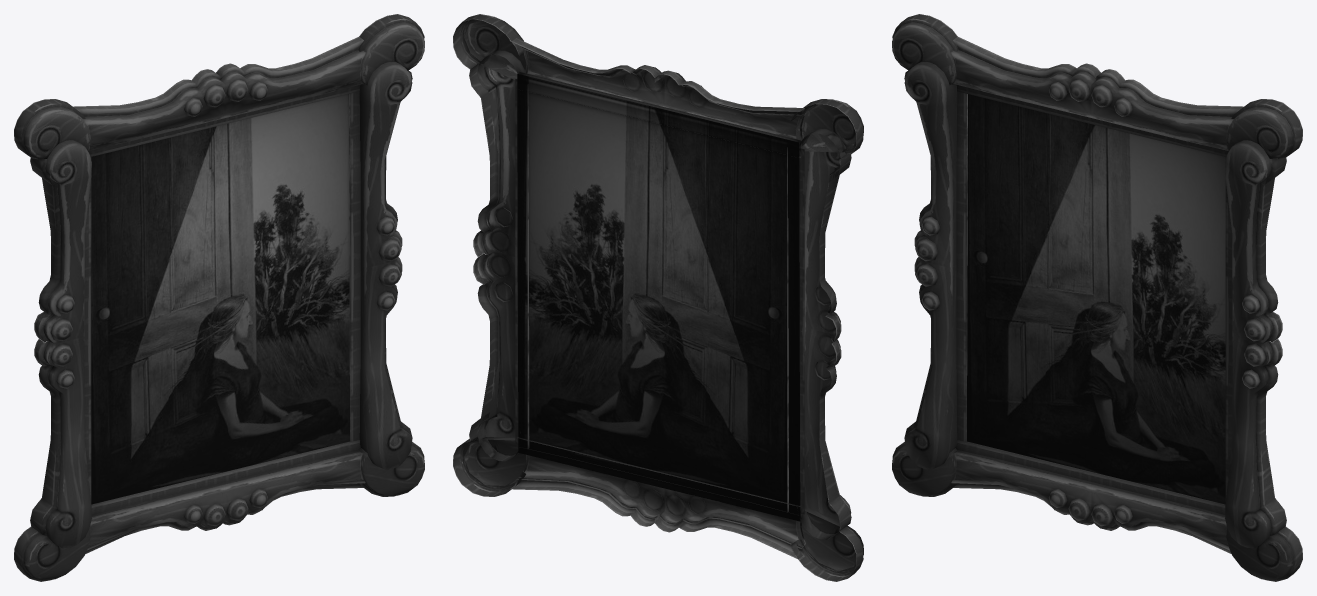
File: painting-b.glb
3 views of the same model, side by side, from view 1: azimuth 30°, elevation 25°; view 2: azimuth 150°, elevation 25°; view 3: azimuth 330°, elevation 25° (orthographic).
Visible parts, largest first — view 1: defaultMaterial.068, defaultMaterial.036, defaultMaterial.067, defaultMaterial.069, defaultMaterial.040, defaultMaterial.060, defaultMaterial.035, defaultMaterial.065, defaultMaterial.048, defaultMaterial.038, defaultMaterial.066, defaultMaterial.061 (+5 smaller); view 2: defaultMaterial.068, defaultMaterial.036, defaultMaterial.067, defaultMaterial.040, defaultMaterial.041, defaultMaterial.069, defaultMaterial.060, defaultMaterial.047, defaultMaterial.061, defaultMaterial.037, defaultMaterial.039, defaultMaterial.065 (+4 smaller); view 3: defaultMaterial.068, defaultMaterial.067, defaultMaterial.036, defaultMaterial.069, defaultMaterial.040, defaultMaterial.041, defaultMaterial.061, defaultMaterial.065, defaultMaterial.048, defaultMaterial.066, defaultMaterial.038, defaultMaterial.035 (+5 smaller).
Boxes of the visible parts, <box> form: defaultMaterial.068: <box>91,94,349,504</box>; defaultMaterial.036: <box>359,61,412,469</box>; defaultMaterial.067: <box>43,140,91,548</box>; defaultMaterial.069: <box>83,50,365,150</box>; defaultMaterial.040: <box>87,450,365,550</box>; defaultMaterial.060: <box>14,99,85,581</box>; defaultMaterial.035: <box>349,91,360,441</box>; defaultMaterial.065: <box>73,37,363,116</box>; defaultMaterial.048: <box>91,440,360,514</box>; defaultMaterial.038: <box>361,22,424,85</box>; defaultMaterial.066: <box>23,107,90,158</box>; defaultMaterial.061: <box>84,157,91,500</box>; defaultMaterial.068: <box>517,74,800,521</box>; defaultMaterial.036: <box>477,50,524,461</box>; defaultMaterial.067: <box>797,128,851,539</box>; defaultMaterial.040: <box>516,447,805,548</box>; defaultMaterial.041: <box>453,14,525,496</box>; defaultMaterial.069: <box>522,48,805,140</box>; defaultMaterial.060: <box>790,99,863,581</box>; defaultMaterial.047: <box>510,478,804,559</box>; defaultMaterial.061: <box>787,147,804,514</box>; defaultMaterial.037: <box>461,437,528,489</box>; defaultMaterial.039: <box>795,507,863,574</box>; defaultMaterial.065: <box>509,38,804,115</box>; defaultMaterial.068: <box>967,94,1225,504</box>; defaultMaterial.067: <box>904,61,957,469</box>; defaultMaterial.036: <box>1225,140,1273,548</box>; defaultMaterial.069: <box>951,50,1233,150</box>; defaultMaterial.040: <box>951,450,1229,550</box>; defaultMaterial.041: <box>1231,99,1302,581</box>; defaultMaterial.061: <box>956,91,967,441</box>; defaultMaterial.065: <box>953,37,1243,116</box>; defaultMaterial.048: <box>956,440,1225,514</box>; defaultMaterial.066: <box>892,22,955,85</box>; defaultMaterial.038: <box>1226,107,1293,158</box>; defaultMaterial.035: <box>1225,157,1232,500</box>.
Bounding box in the file's own units: 1.77 × 2 × 0.1175.
Materials: 1 (1 with a texture image).
